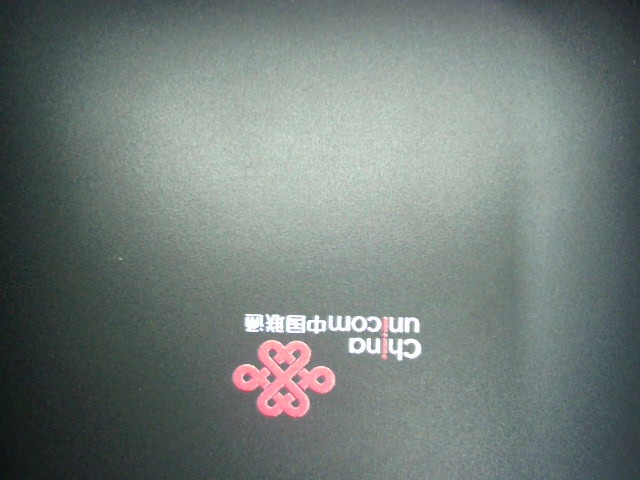AC_ChinaUnicom: (215, 302, 426, 419)
